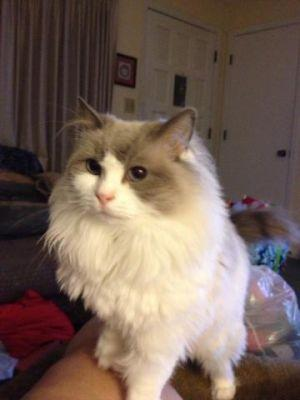ragdoll: (35, 83, 213, 243)
